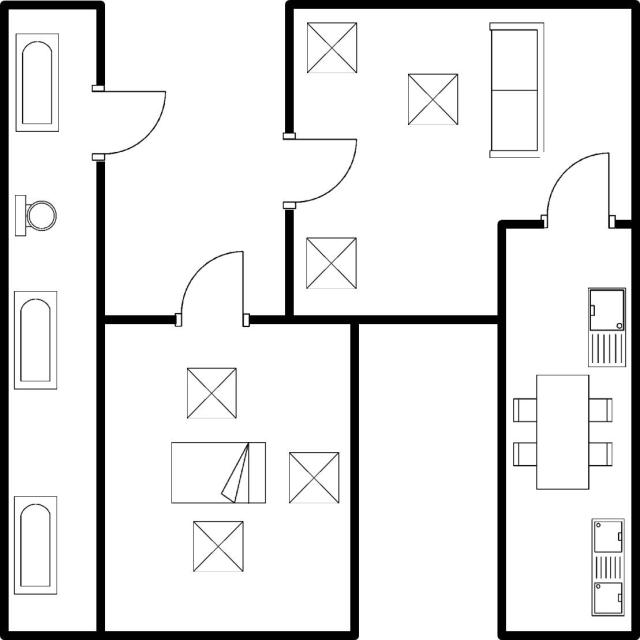bed: (166, 436, 271, 509)
coffee_table: (398, 67, 464, 130), (188, 516, 251, 577), (303, 16, 364, 79), (301, 232, 362, 294), (181, 363, 241, 425), (284, 446, 344, 507)
dining_table: (508, 369, 618, 496)
large_sink: (10, 190, 60, 242)
large_sofa: (485, 17, 549, 166)
sink: (579, 282, 633, 371)
tub: (8, 284, 62, 394), (10, 490, 64, 600), (11, 30, 66, 137)
twin_sink: (584, 512, 630, 622)
